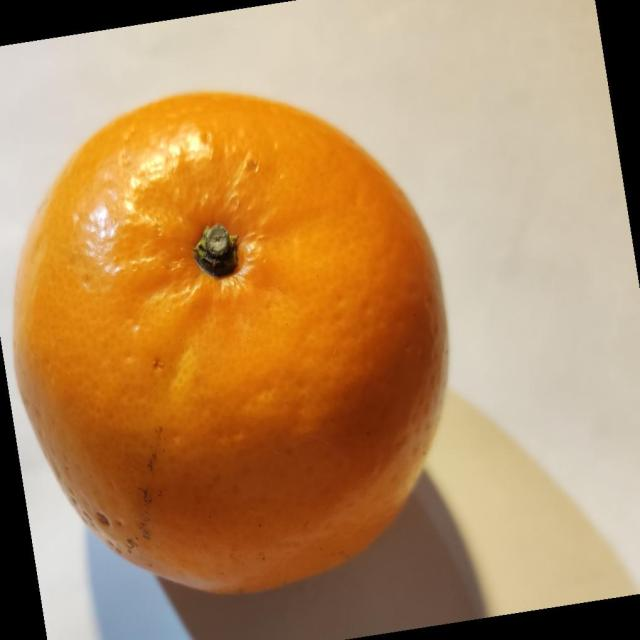fresh orange: (12, 89, 450, 596)
